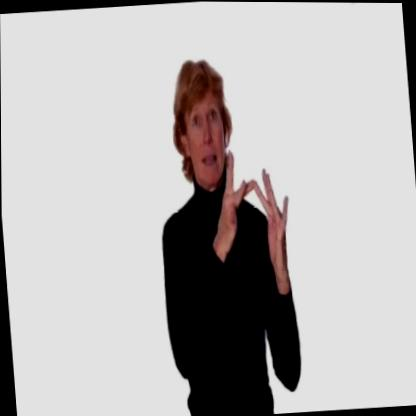Internet: (149, 50, 304, 403)
